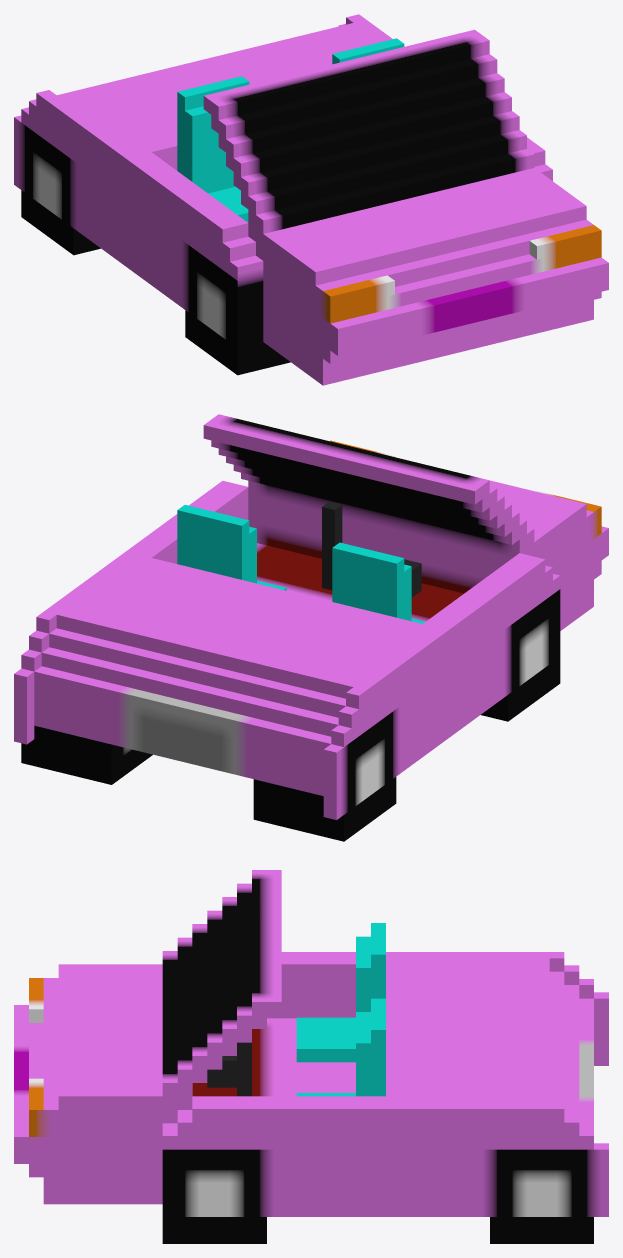
File: Car_11.fbx
The picture shows the model from 3 angles, top to bottom: view 1: azimuth 30°, elevation 25°; view 2: azimuth 150°, elevation 25°; view 3: azimuth 270°, elevation 25°; orthographic projection.
Parts seen in each view (by area): view 1: Car_11; view 2: Car_11; view 3: Car_11.
Boxes of the visible parts, x1,y1,x2,y2 form: Car_11: (14,14,608,385); Car_11: (14,414,608,841); Car_11: (14,870,608,1243).
Bounding box in the file's own units: 25 × 17 × 40.
Materials: 1 (1 with a texture image).
